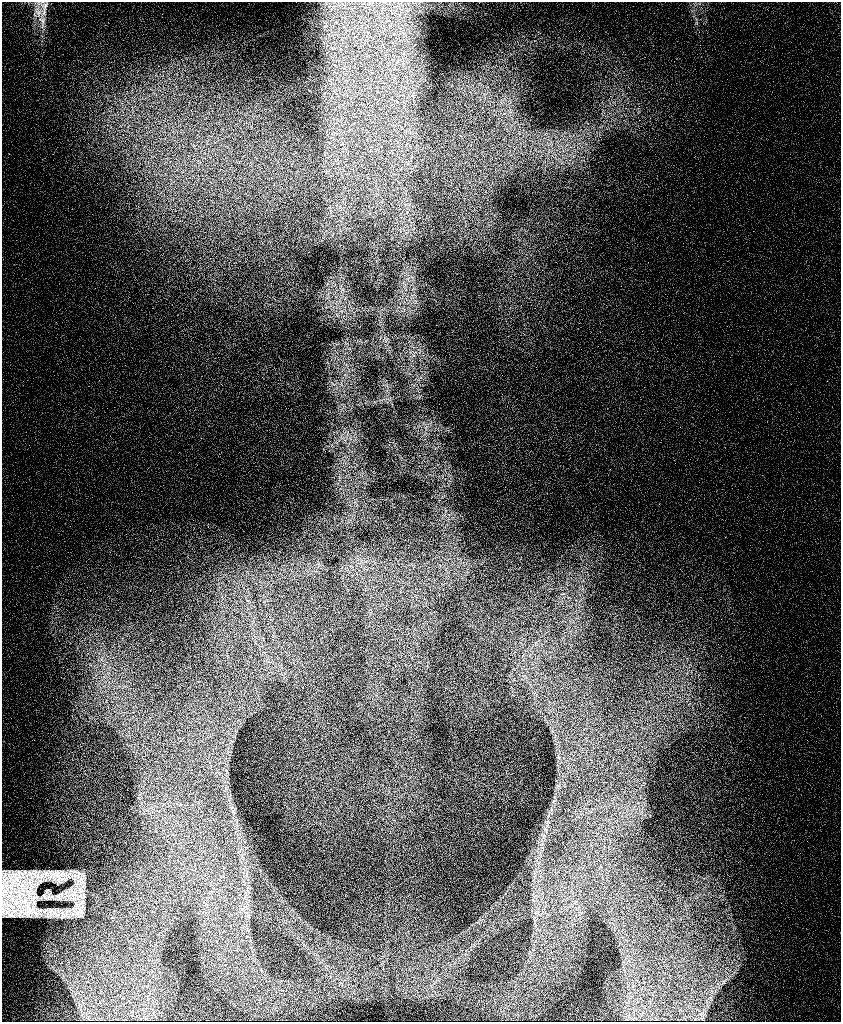lumbar scoliosis: (291, 99, 499, 599)
